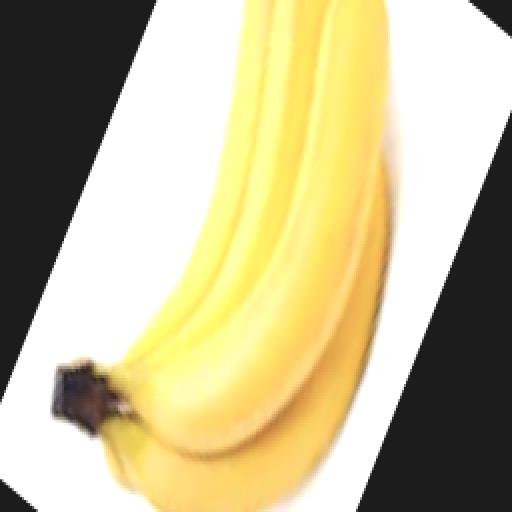banana-ripe: (14, 0, 466, 512)
